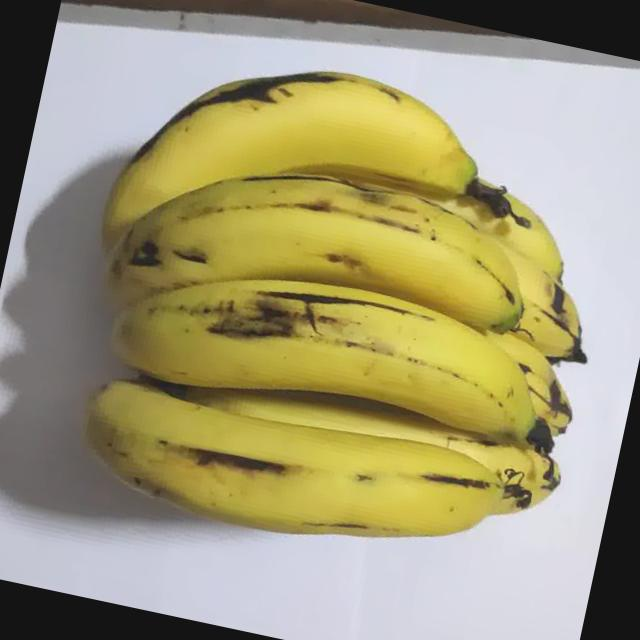banana_pacche: (0, 0, 629, 630)
